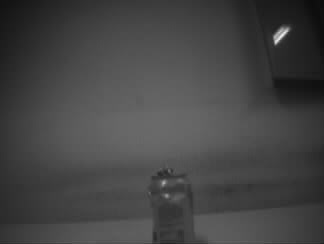Tin can: (145, 165, 195, 244)
